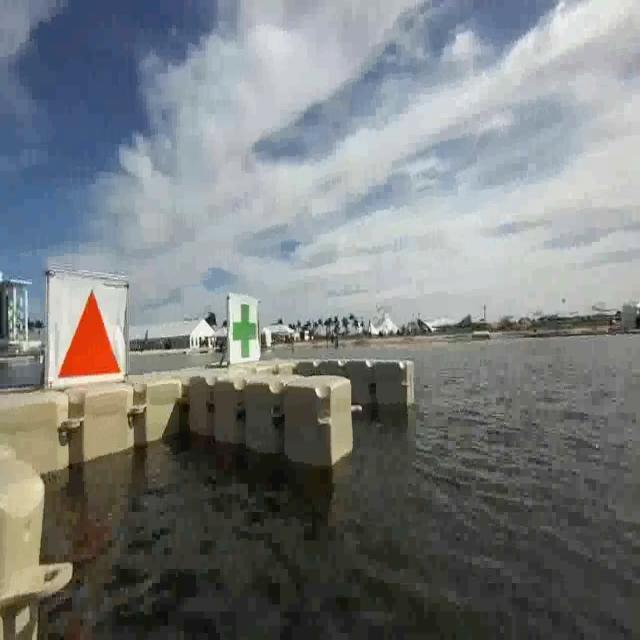blue-cross: (228, 295, 260, 364)
red-dot: (46, 277, 124, 387)
